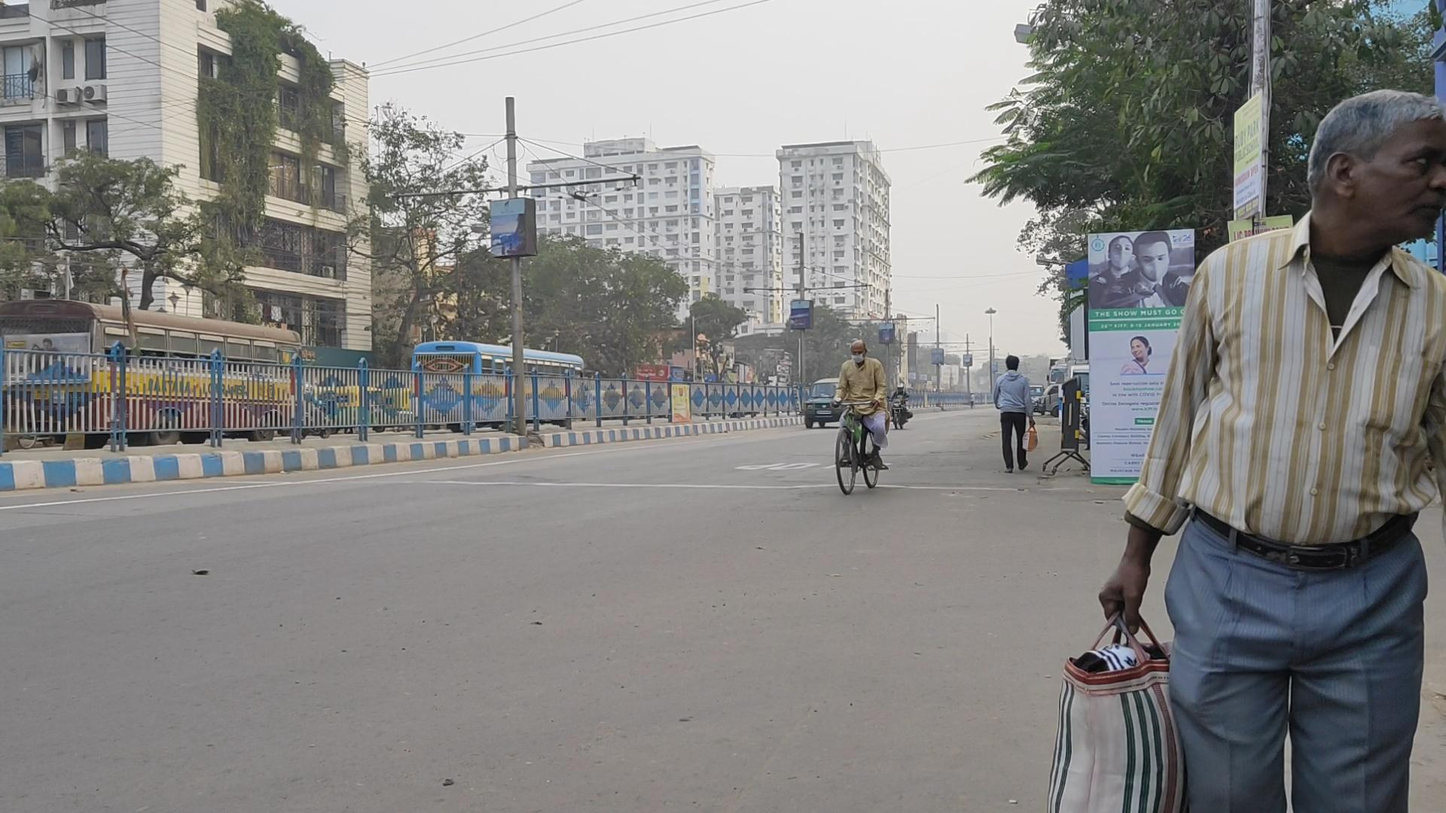bike: (831, 340, 890, 495), (886, 383, 913, 430)
car: (804, 378, 862, 429)
